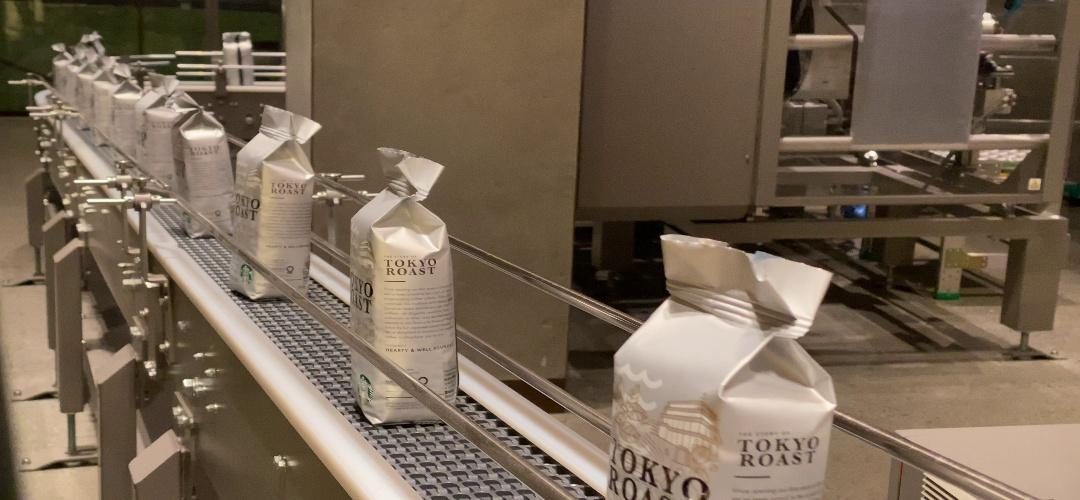conveyor: (613, 348, 832, 498), (348, 217, 458, 328), (234, 151, 312, 244)
